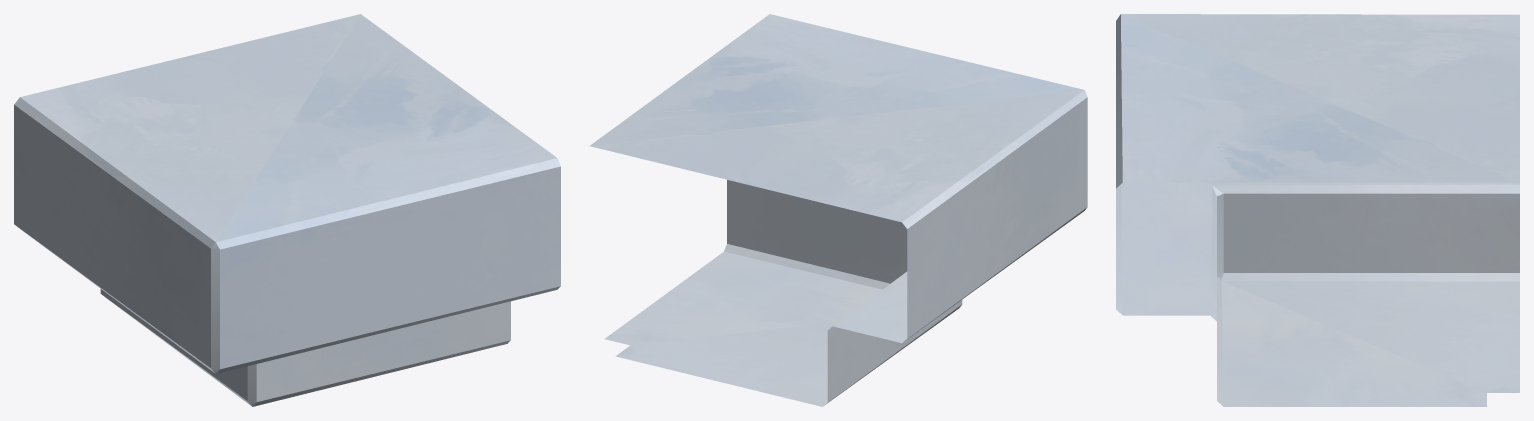
File: Corner top.fbx
The picture shows the model from 3 angles, left to right: view 1: azimuth 30°, elevation 25°; view 2: azimuth 150°, elevation 25°; view 3: azimuth 270°, elevation 25°; orthographic projection. The views are drawn at different scales.
Visible parts, largest first — view 1: Corner top; view 2: Corner top; view 3: Corner top.
Boxes of the visible parts, x1,y1,x2,y2 form: Corner top: [14, 14, 560, 406]; Corner top: [589, 14, 1087, 406]; Corner top: [1116, 14, 1519, 406].
Bounding box in the file's own units: 30.1 × 18.46 × 30.1.
